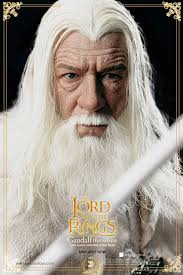gandalf gray: (16, 11, 179, 203)
